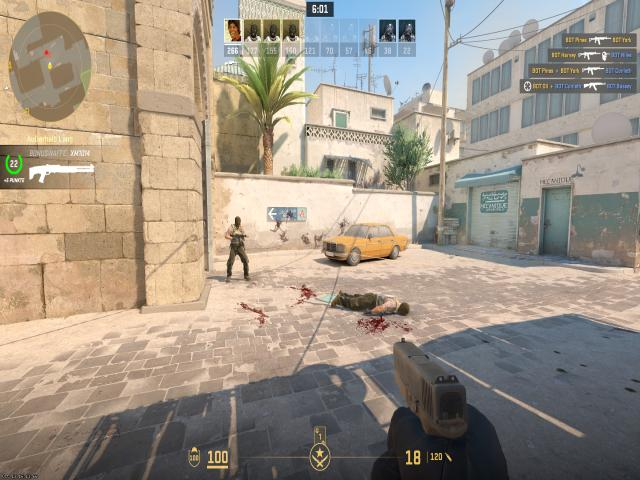Dead: (332, 294, 412, 312)
T: (228, 216, 247, 278)
T-Head: (234, 216, 242, 227)
